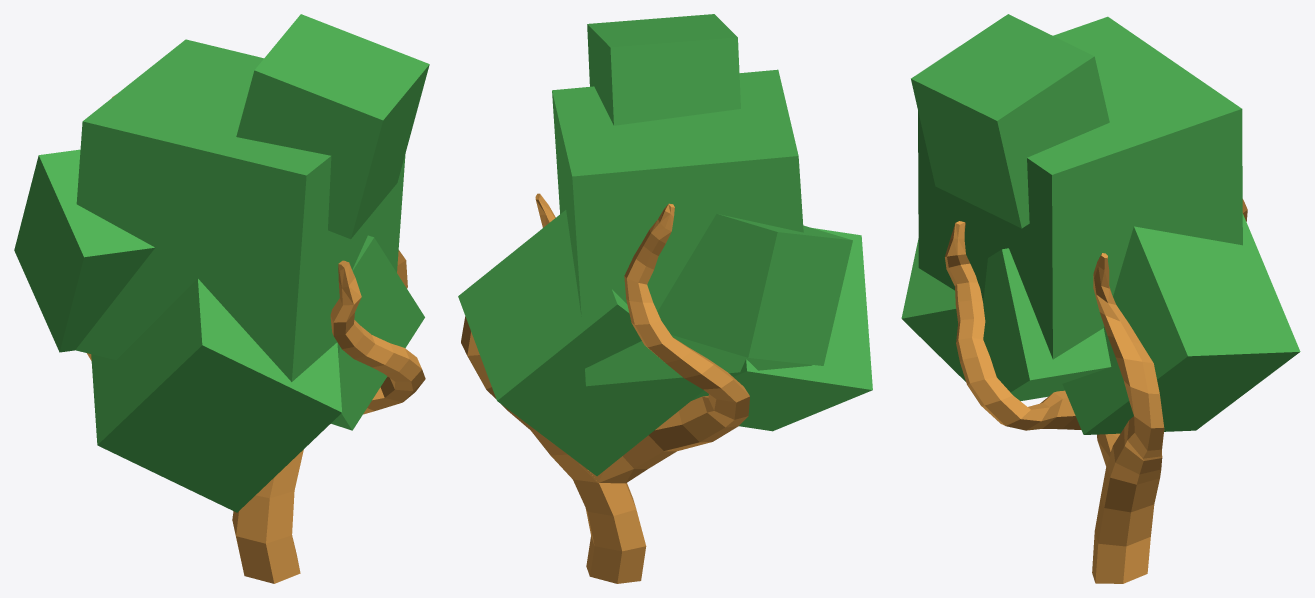
The model's file is blocky-bush-by-tiff-eidmann-e_ccw6tvMZ1.glb.
3 renders of one model, left to right at view 1: azimuth 30°, elevation 25°; view 2: azimuth 150°, elevation 25°; view 3: azimuth 270°, elevation 25°, orthographic. The views are drawn at different scales.
Parts seen in each view (by area): view 1: group1846548738, group879906757, group1762108568; view 2: group1846548738, group1356946454, group879906757; view 3: group1846548738, group879906757, group1762108568.
Part boxes in pixels (x1,y1,x2,y2): group1846548738: (14,14,429,512); group879906757: (232,250,407,583); group1762108568: (330,260,425,414); group1846548738: (458,14,872,476); group1356946454: (579,203,749,483); group879906757: (461,193,646,583); group1846548738: (901,14,1300,434); group879906757: (1092,253,1164,583); group1762108568: (945,221,1081,430).
Size of the model in its own units: 1.27 by 1.81 by 1.23.
